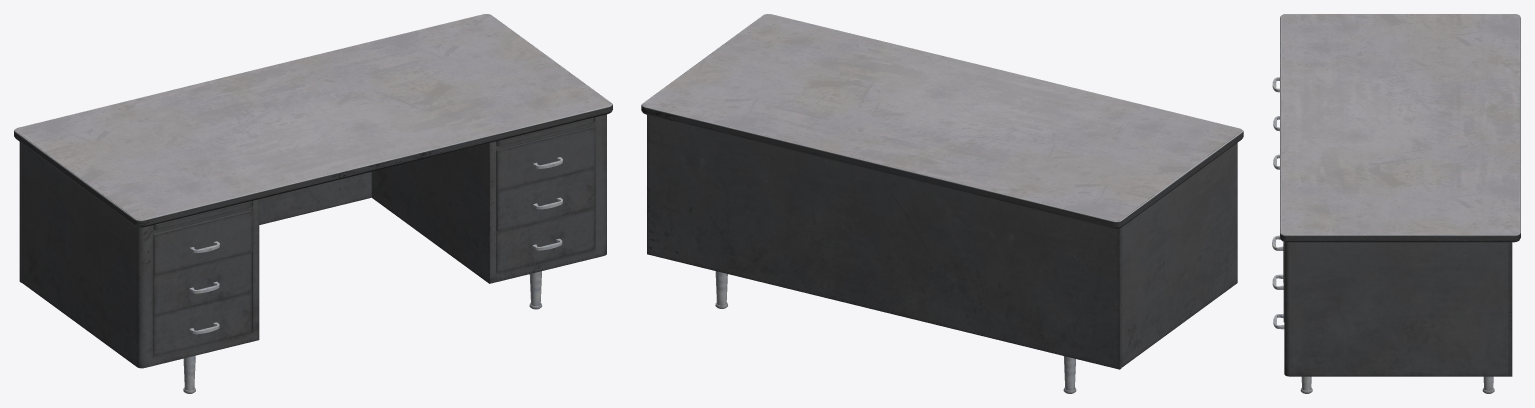
The model's file is desk.glb.
3 renders of one model, left to right at view 1: azimuth 30°, elevation 25°; view 2: azimuth 150°, elevation 25°; view 3: azimuth 270°, elevation 25°, orthographic. The views are drawn at different scales.
Visible parts, largest first — view 1: desk; view 2: desk; view 3: desk.
Part boxes in pixels (<box>): desk: <box>14,14,612,393</box>; desk: <box>641,14,1243,393</box>; desk: <box>1272,14,1520,393</box>.
Size of the model in its own units: 2 by 0.7875 by 0.9472.
1 material, 1 textured.
